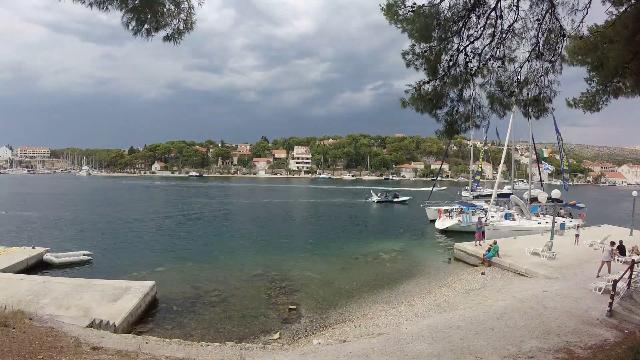speedboat: (363, 182, 415, 207), (425, 179, 449, 194), (186, 168, 208, 180)
